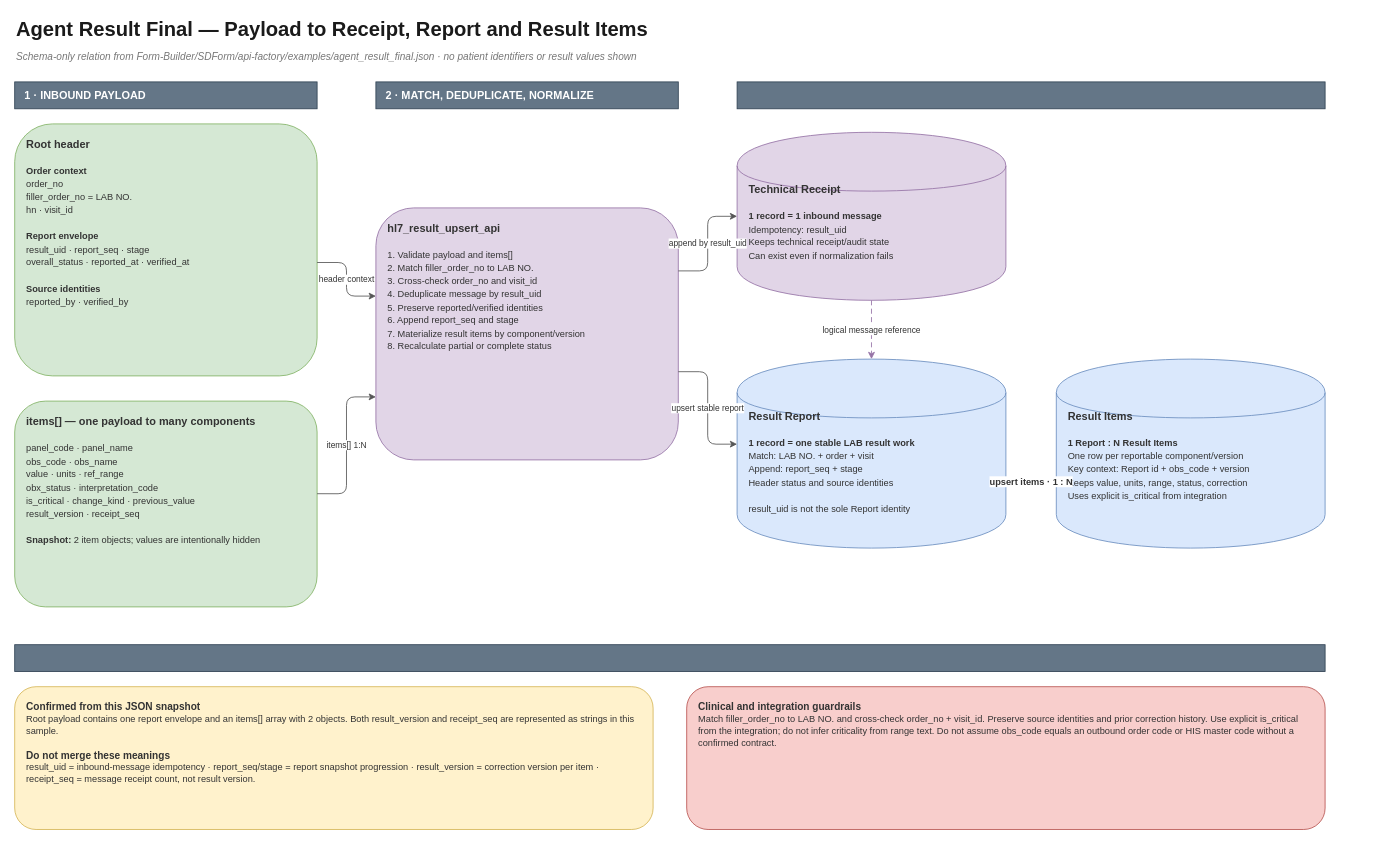
This 1390x844 diagram has some shape labels left out. The centre of each missing label's shape, as x and y in pixels:
"3 · PERSISTENCE RELATION" belongs at (1030,95).
"RELATION RULES — confirmed structure vs. implementation guardrails" belongs at (669,658).
